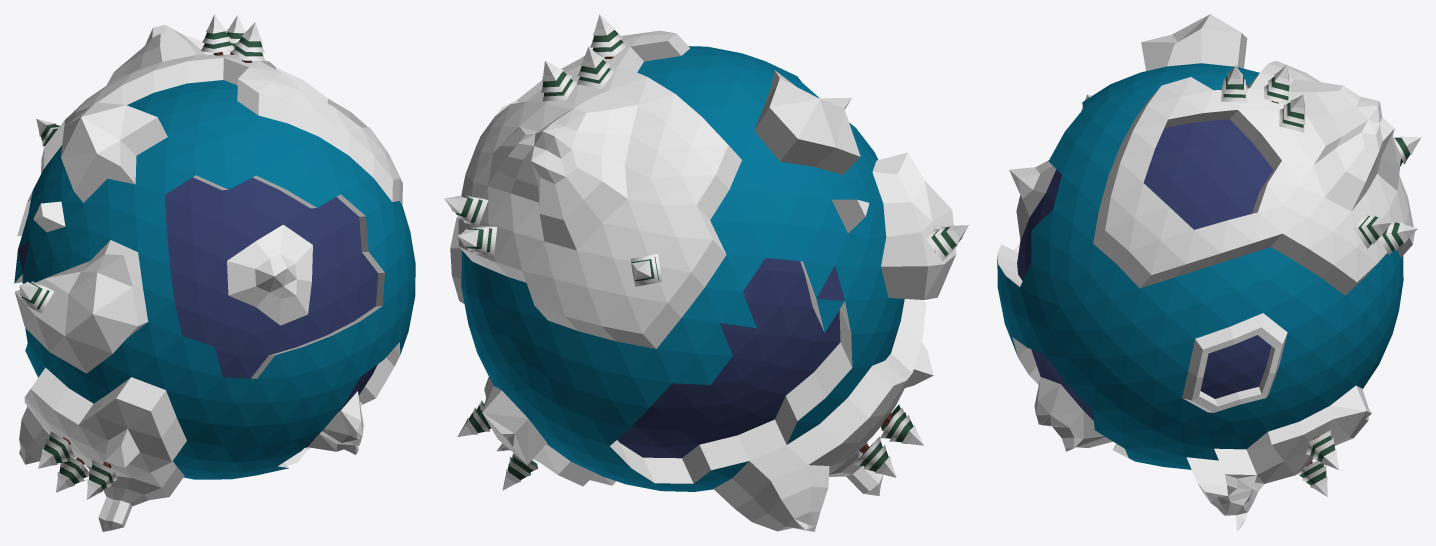
Rendered from planet_snow.fbx.
3 renders of one model, left to right at view 1: azimuth 30°, elevation 25°; view 2: azimuth 150°, elevation 25°; view 3: azimuth 270°, elevation 25°, orthographic. The views are drawn at different scales.
Visible parts, largest first — view 1: ICE_planet; view 2: ICE_planet; view 3: ICE_planet.
Boxes of the visible parts, <box> form: ICE_planet: <box>14,25,415,531</box>; ICE_planet: <box>450,30,956,531</box>; ICE_planet: <box>997,14,1414,531</box>.
Size of the model in its own units: 18.58 by 18.29 by 16.49.
